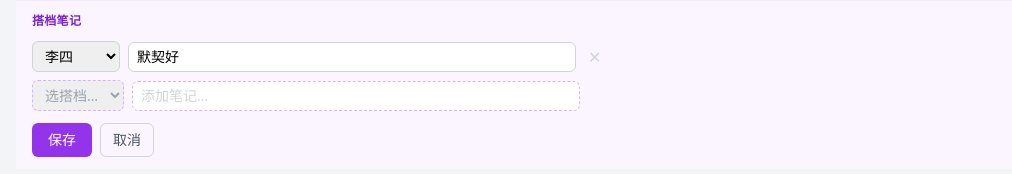
Test: PlayerPartnerNotesRow › clicking ✕ removes row from UI
The width and height of the screenshot is (1012, 174).
Click the button "✕".
click(595, 56)  # box [584,48,605,64]
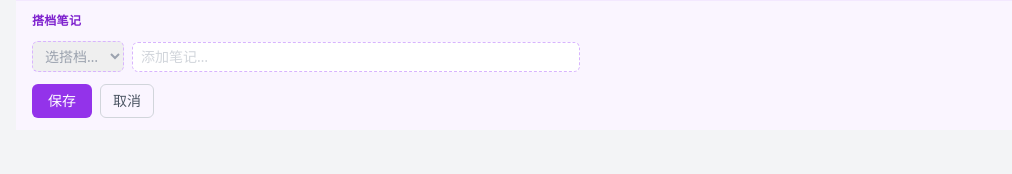
Now the number of fields is 1, box [132,42,580,72]
